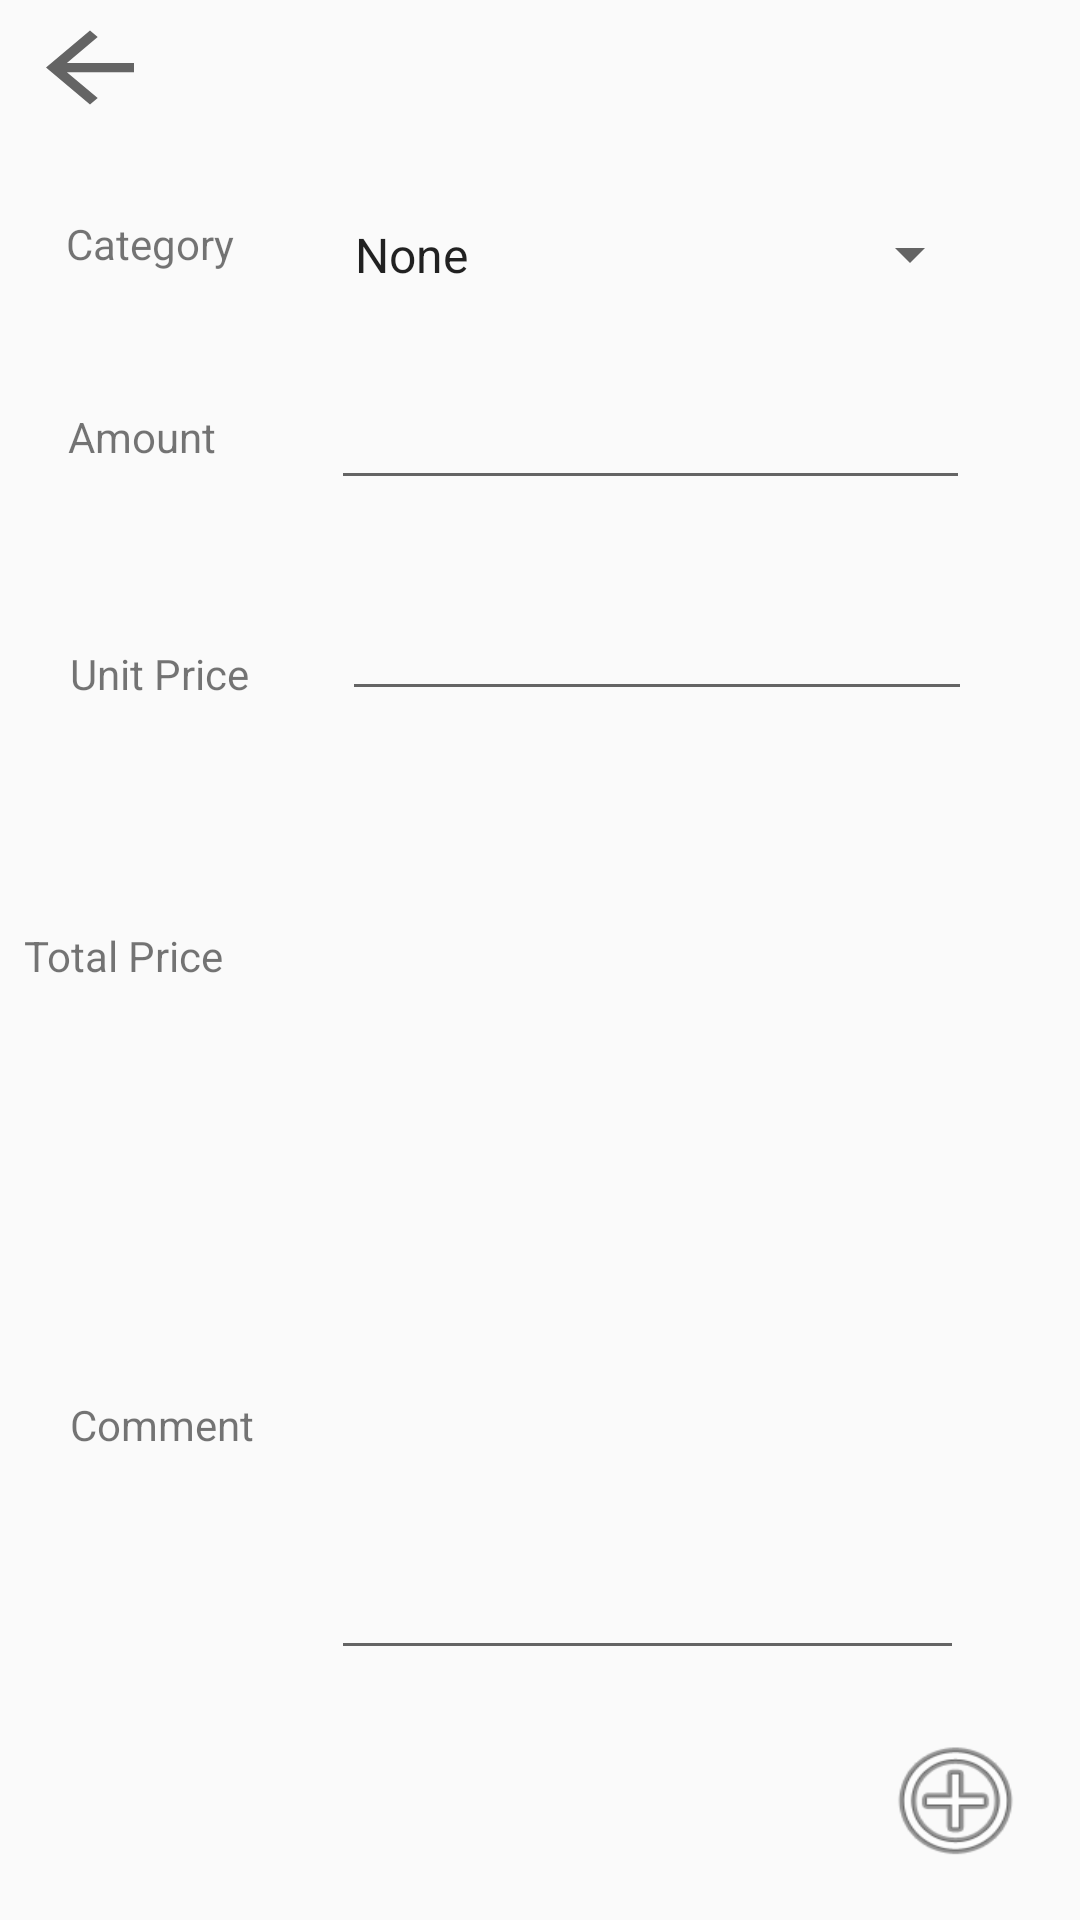

Screen size 1080px×1920px. Icon name, then its box in pixels as (x1, y1, x2, y2):
add: (898, 1747, 1013, 1854)
